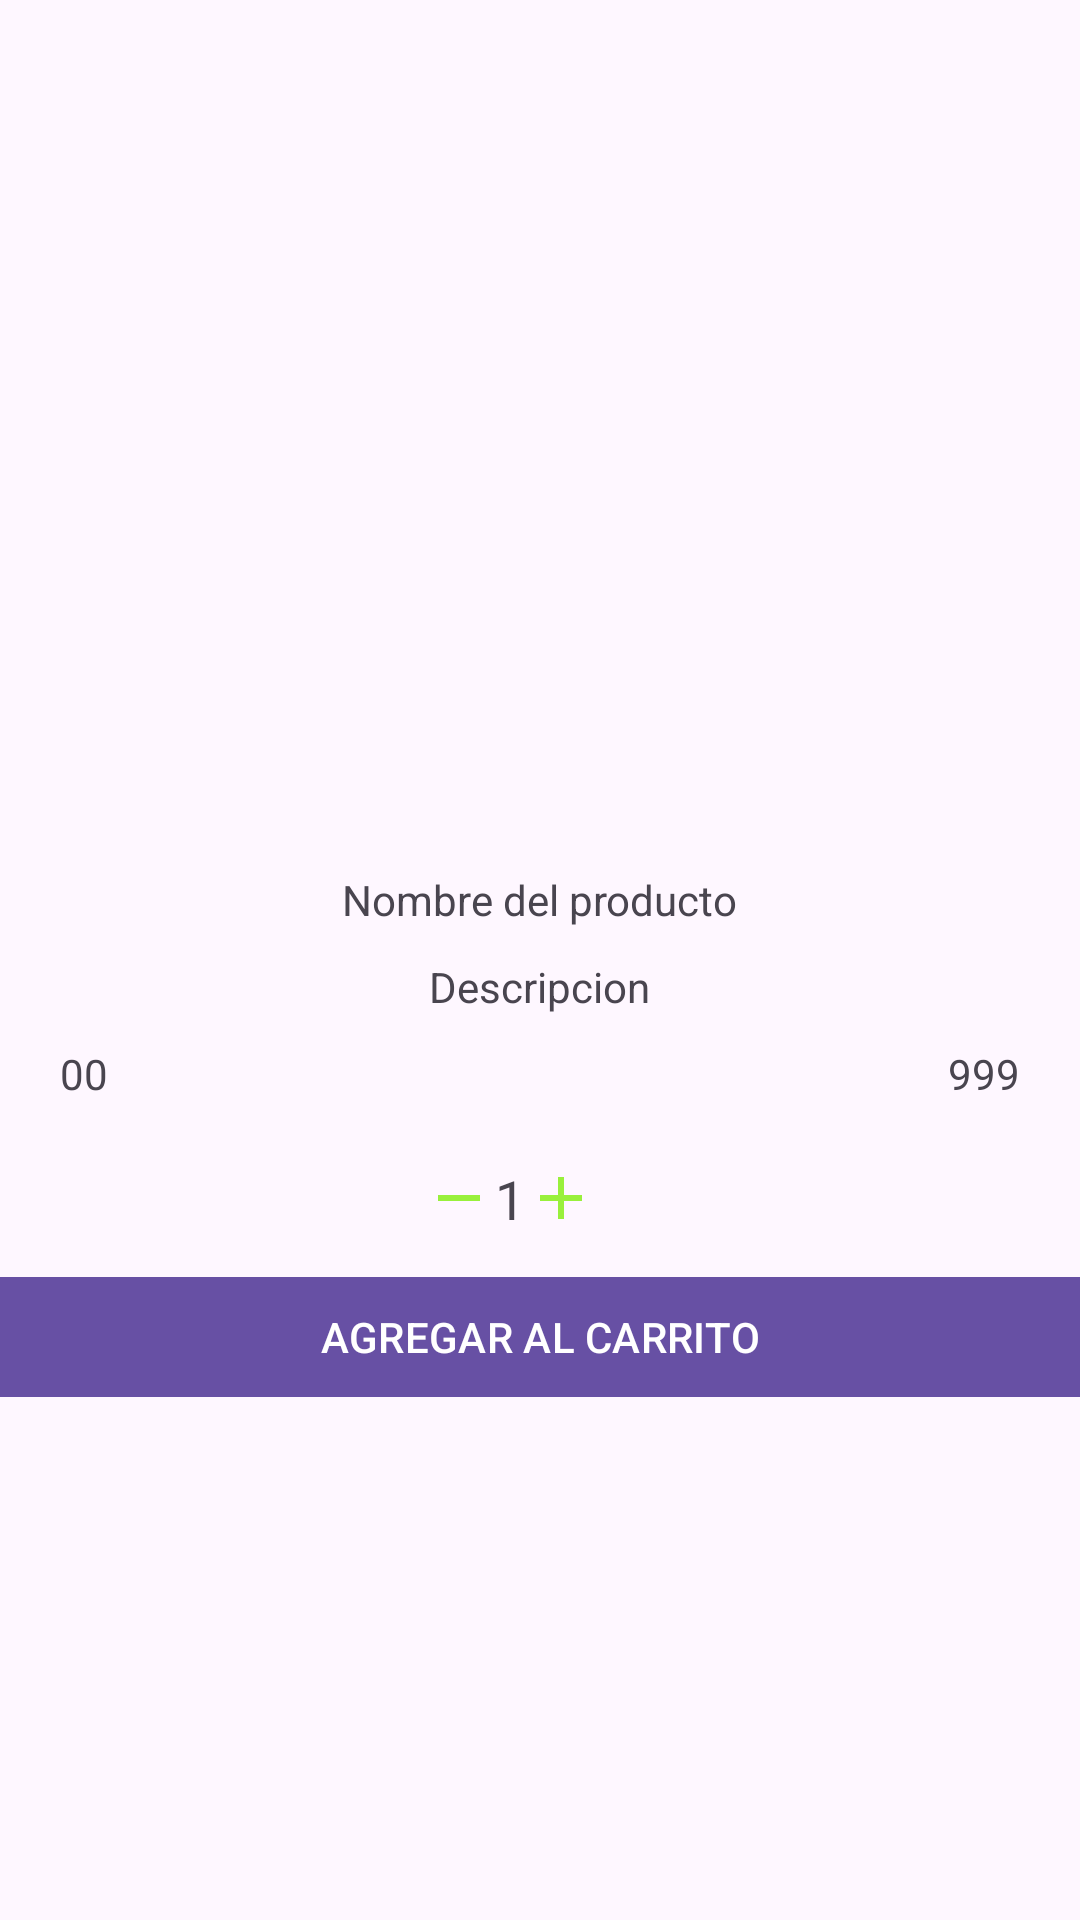

Icon bounding boxes for this 1080px x 1920px phone screenshot, format (x1, y1, x2, y2):
add: (540, 1177, 582, 1219)
